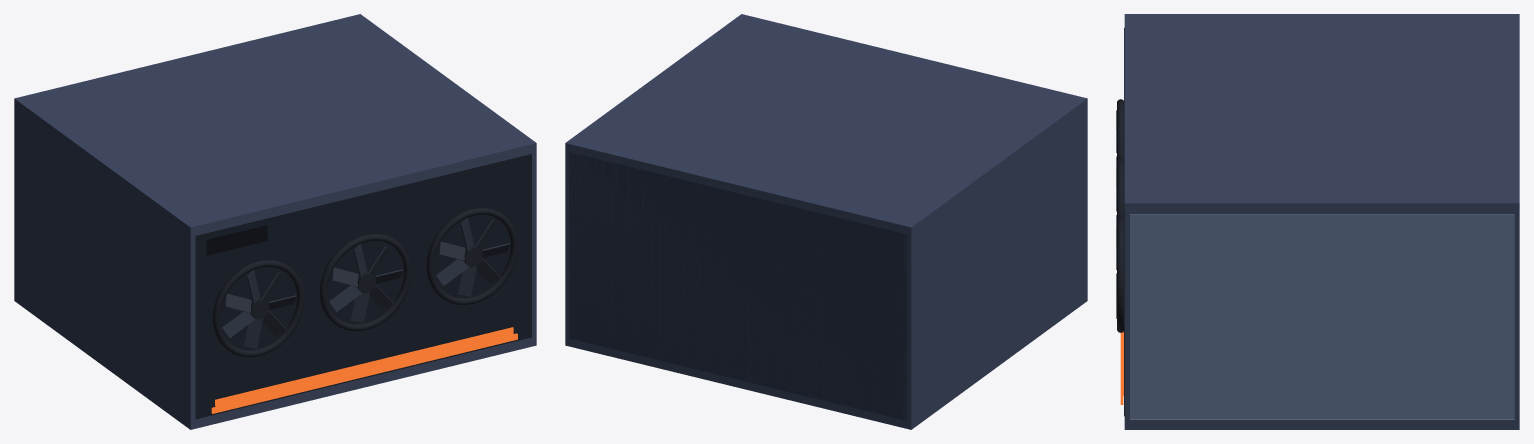
Rendered from gpu.glb.
3 renders of one model, left to right at view 1: azimuth 30°, elevation 25°; view 2: azimuth 150°, elevation 25°; view 3: azimuth 270°, elevation 25°, orthographic. The views are drawn at different scales.
Parts seen in each view (by area): view 1: body, grille, top, fan_blades (×3), fan_frame (×3), status (×2), base, side, plate; view 2: body, back, top, base, side; view 3: glass (×2), body, top, base, fan_frame (×3), grille.
Boxes of the visible parts, x1,y1,x2,y2 form: body: (14, 14, 536, 429); grille: (195, 154, 531, 419); top: (17, 16, 530, 233); fan_blades (×3): (222, 218, 510, 348); fan_frame (×3): (213, 207, 517, 357); status (×2): (211, 327, 517, 413); base: (17, 297, 530, 426); side: (103, 174, 198, 421); plate: (206, 225, 267, 255); body: (565, 14, 1087, 429); back: (569, 152, 907, 420); top: (571, 16, 1084, 233); base: (571, 297, 1084, 425); side: (903, 183, 1087, 421); glass (×2): (1130, 214, 1514, 419); body: (1124, 14, 1519, 429); top: (1128, 15, 1516, 212); base: (1132, 422, 1511, 427); fan_frame (×3): (1117, 99, 1123, 332); grille: (1124, 27, 1124, 416).
Size of the model in its own units: 3.42 by 1.9 by 3.07.
